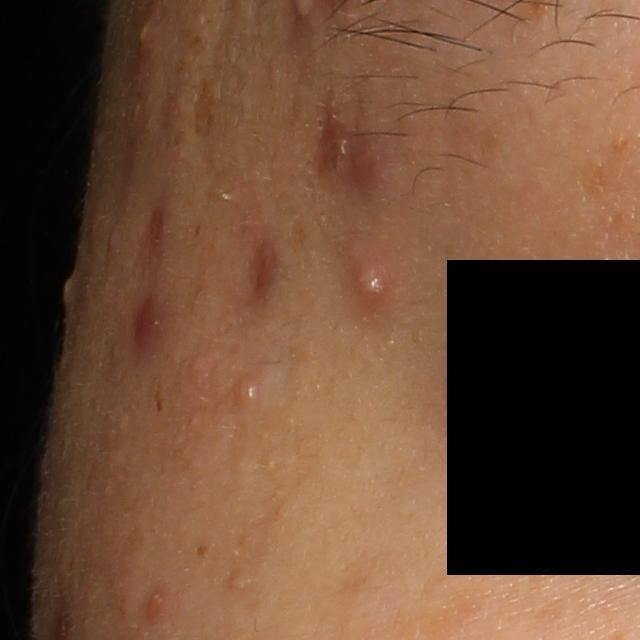melasma: (331, 554, 402, 603)
papule: (130, 294, 157, 356), (145, 585, 169, 621)
pustule: (345, 249, 392, 306)
